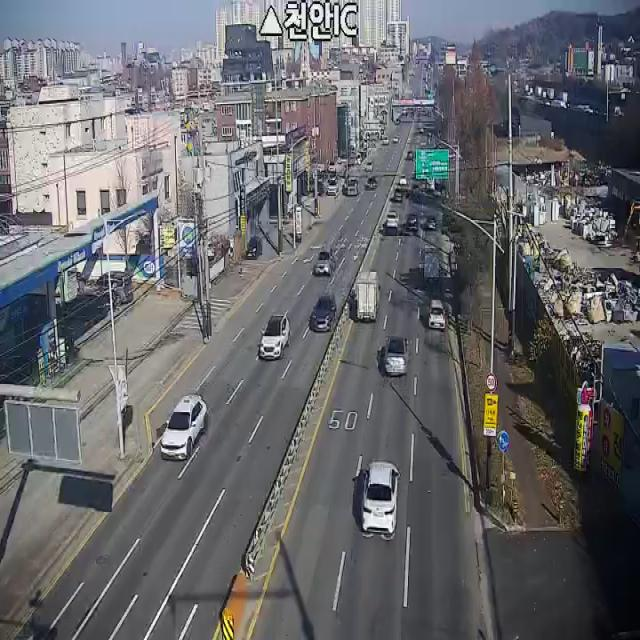Car: (160, 394, 209, 460), (361, 463, 398, 539), (259, 314, 290, 360), (94, 272, 133, 304), (385, 335, 412, 376), (310, 294, 337, 332), (314, 249, 336, 277), (428, 298, 446, 332), (246, 236, 262, 258), (385, 211, 399, 233), (405, 212, 420, 232), (346, 177, 360, 197), (426, 212, 438, 232), (365, 176, 378, 192), (328, 178, 339, 195), (394, 186, 404, 202), (398, 175, 408, 186), (328, 160, 337, 172)
Truck: (357, 271, 380, 321), (423, 244, 441, 288)
